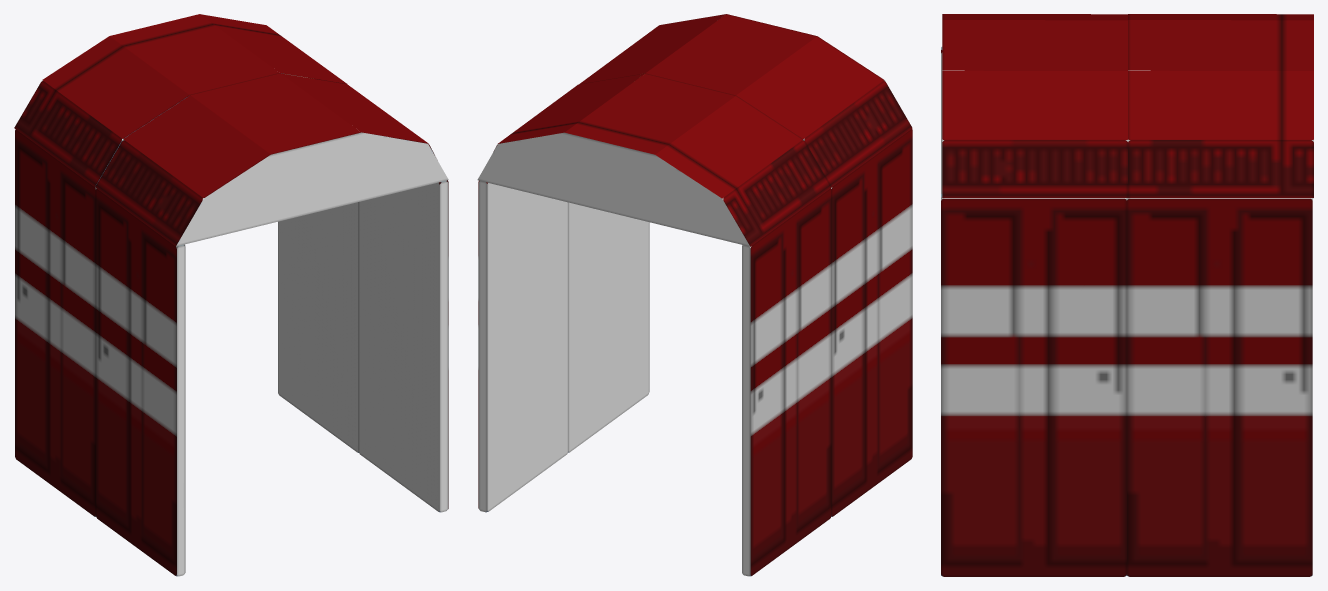
The model's file is df7g_enclosure_d.obj.
The picture shows the model from 3 angles, left to right: view 1: azimuth 30°, elevation 25°; view 2: azimuth 150°, elevation 25°; view 3: azimuth 270°, elevation 25°; orthographic projection. The views are drawn at different scales.
Visible parts, largest first — view 1: df7g_enclosure_d; view 2: df7g_enclosure_d; view 3: df7g_enclosure_d.
Part boxes in pixels (x1,y1,x2,y2): df7g_enclosure_d: [14, 14, 448, 576]; df7g_enclosure_d: [477, 14, 912, 576]; df7g_enclosure_d: [941, 14, 1313, 576].
Bounding box in the file's own units: 1.95 × 2.72 × 2.01.
